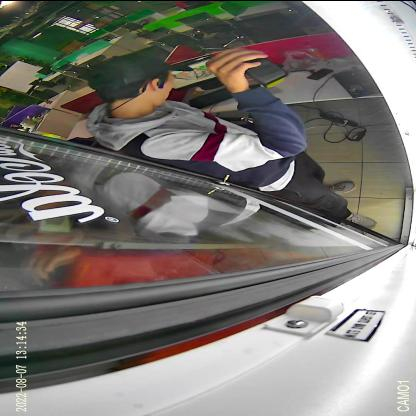yellow: (243, 57, 289, 86)
